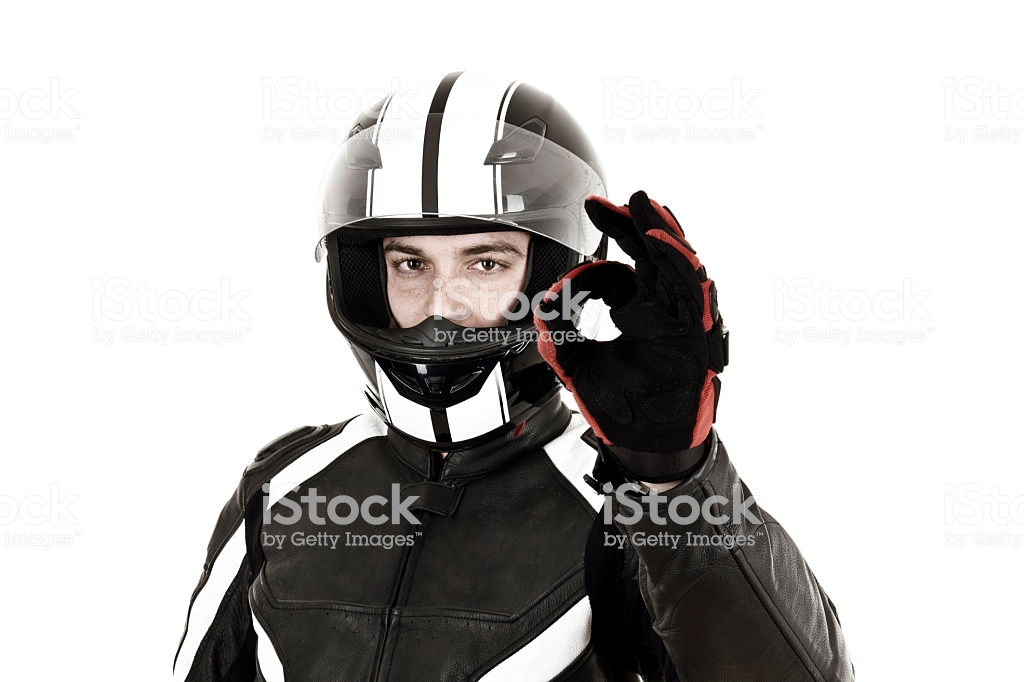helmet: (297, 72, 618, 367)
